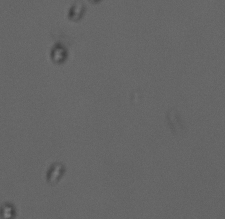Dead Cell: (47, 162, 67, 181), (51, 43, 67, 65), (68, 2, 84, 21), (1, 205, 14, 219)
